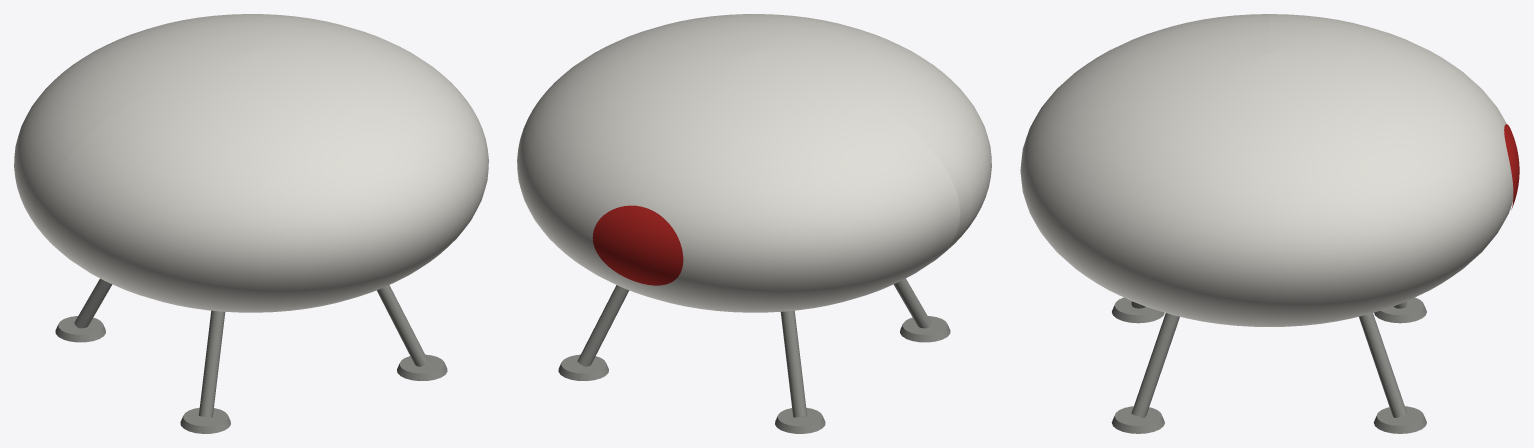
Rendered from craft.gltf.
The picture shows the model from 3 angles, left to right: view 1: azimuth 30°, elevation 25°; view 2: azimuth 150°, elevation 25°; view 3: azimuth 270°, elevation 25°; orthographic projection. The views are drawn at different scales.
Parts seen in each view (by area): view 1: hull, leg-2, leg-1, pad-2, pad-1, pad-3, leg-3; view 2: hull, insignia, leg-3, leg-4, pad-3, pad-4, pad-2, leg-2; view 3: hull, leg-4, leg-1, pad-1, pad-4, pad-2, pad-3, insignia.
Boxes of the visible parts, box(x1,y1,x2,y2) form: hull: box(14, 14, 488, 312); leg-2: box(198, 310, 225, 417); leg-1: box(376, 285, 428, 366); pad-2: box(180, 408, 230, 433); pad-1: box(397, 354, 447, 380); pad-3: box(55, 316, 105, 342); leg-3: box(74, 278, 112, 328); hull: box(517, 14, 991, 312); insignia: box(592, 205, 683, 285); leg-3: box(780, 310, 807, 417); leg-4: box(577, 285, 629, 366); pad-3: box(775, 408, 825, 433); pad-4: box(558, 354, 608, 380); pad-2: box(900, 316, 950, 342); leg-2: box(893, 278, 931, 328); hull: box(1020, 14, 1513, 326); leg-4: box(1359, 313, 1407, 417); leg-1: box(1131, 313, 1179, 417); pad-1: box(1111, 406, 1164, 433); pad-4: box(1373, 406, 1426, 433); pad-2: box(1112, 297, 1164, 323); pad-3: box(1374, 297, 1426, 323); insignia: box(1504, 124, 1519, 209).
Bounding box in the file's own units: 3.36 × 2.33 × 3.37.
